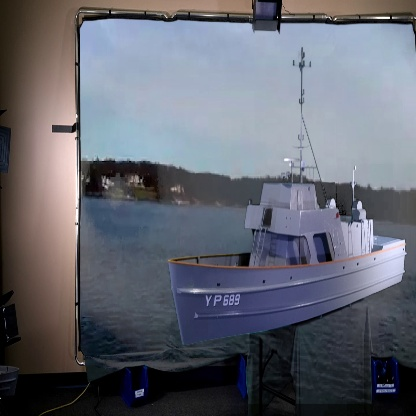YP689: (167, 59, 406, 348)
